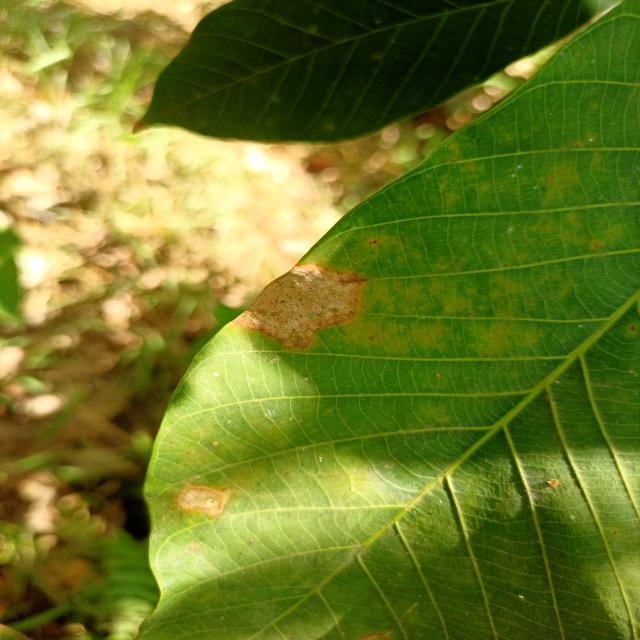Colletotrichum: (174, 484, 228, 518)
Leaf-Blight: (229, 264, 365, 352)
